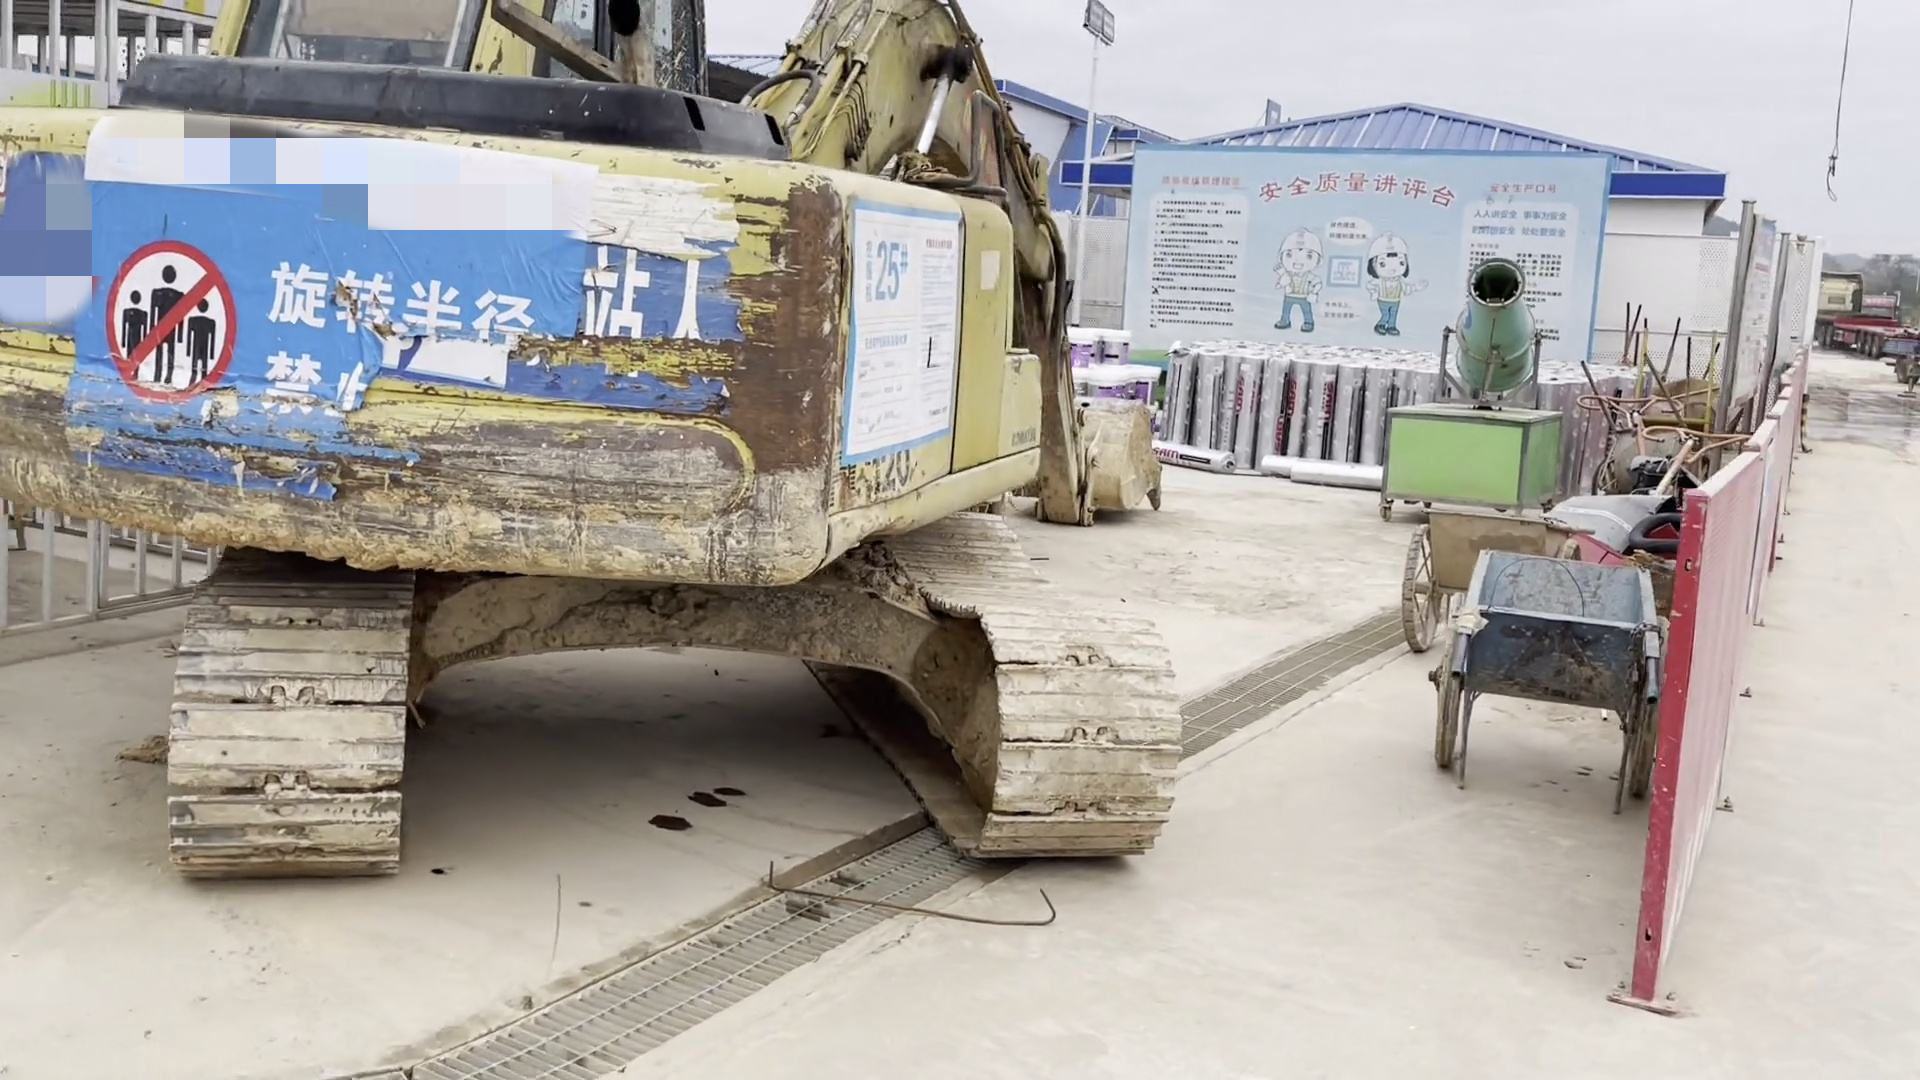handcart: (1428, 555, 1660, 803), (1399, 498, 1584, 649)
slogan: (62, 162, 593, 479)
